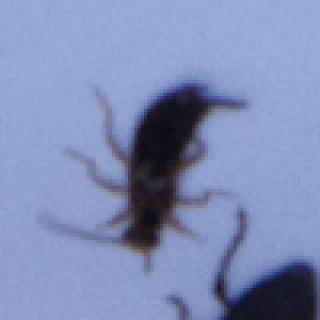earwig: (38, 74, 244, 283)
